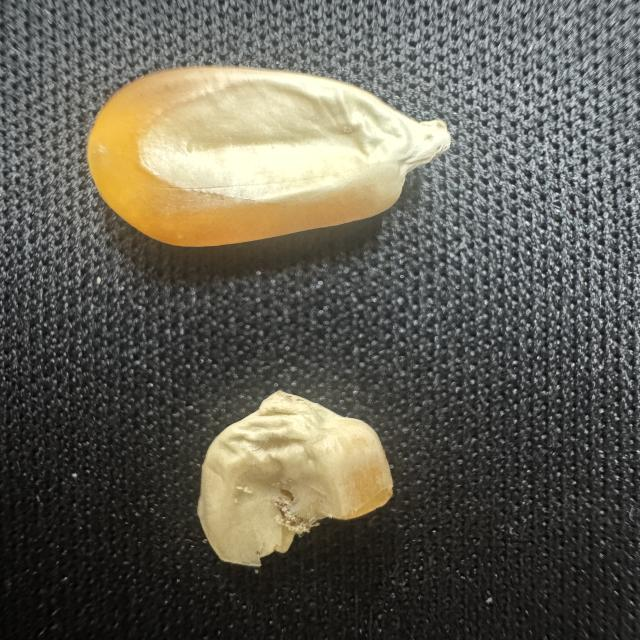Bad-Seed: (191, 377, 402, 570)
Good-Seed: (81, 61, 463, 258)
